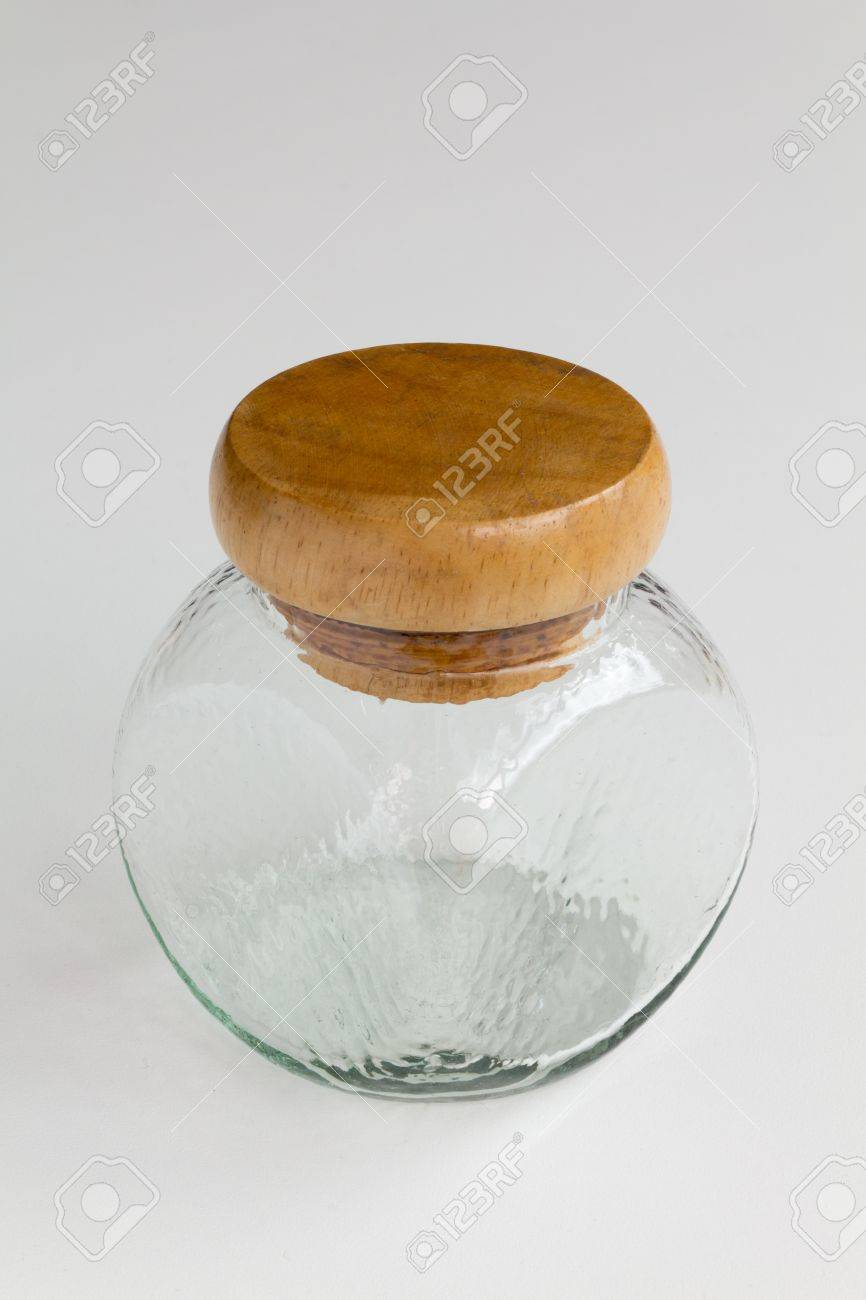Rec_Glass: (80, 315, 778, 1118)
